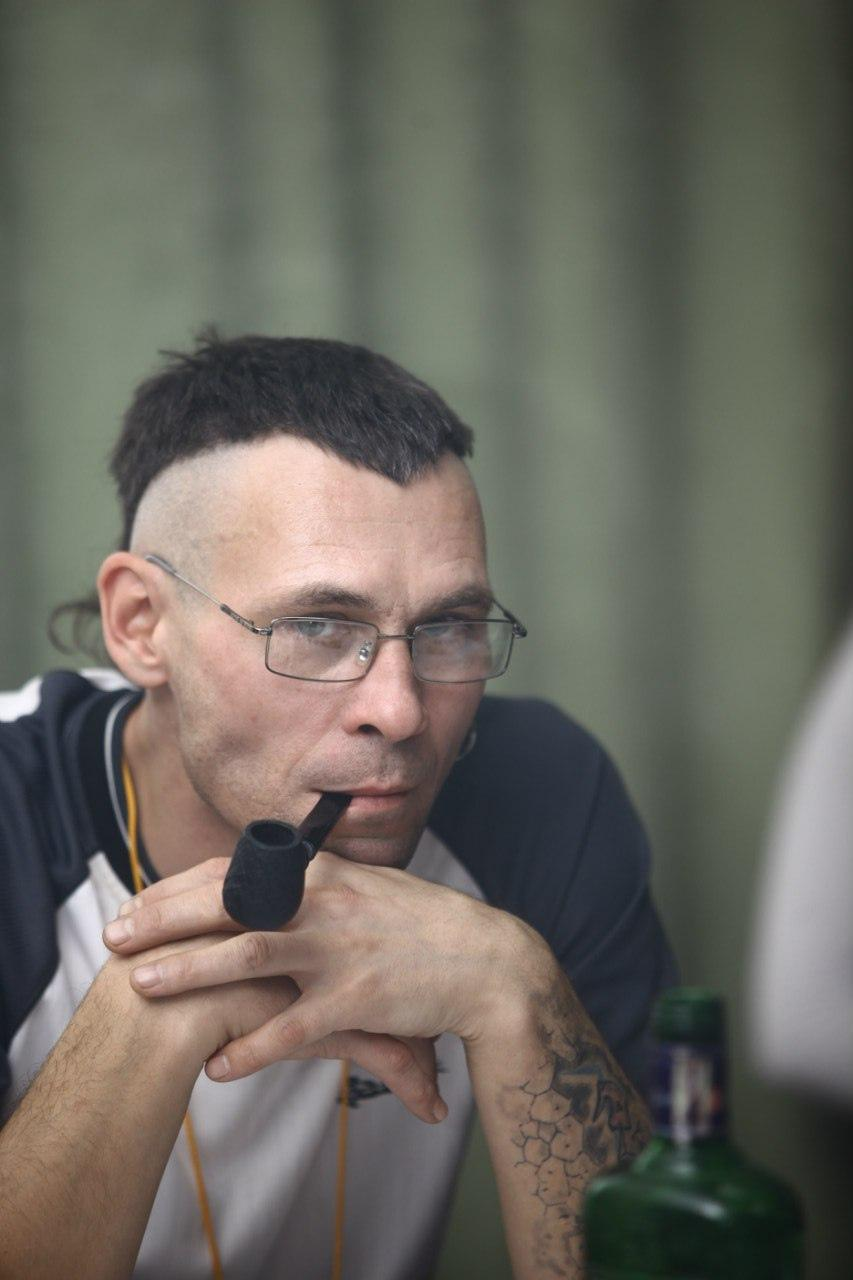trubka: (223, 792, 351, 931)
